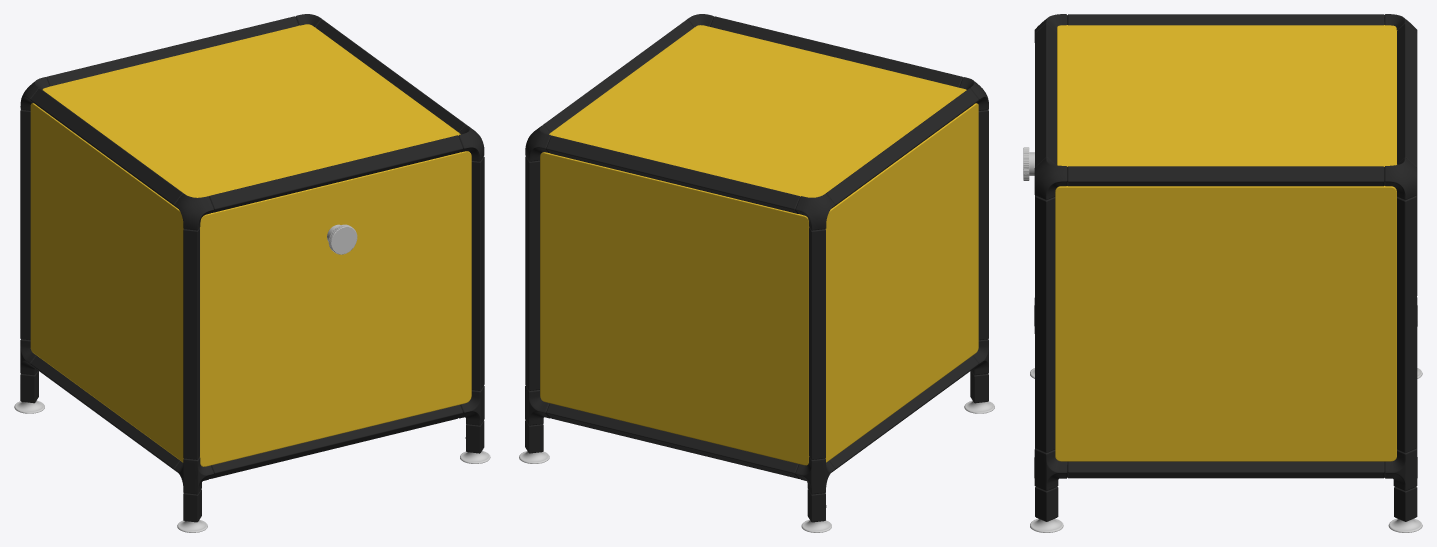
3 renders of one model, left to right at view 1: azimuth 30°, elevation 25°; view 2: azimuth 150°, elevation 25°; view 3: azimuth 270°, elevation 25°, orthographic. The views are drawn at different scales.
Visible parts, largest first — view 1: 374x374x329; view 2: 374x374x329; view 3: 374x374x329.
Boxes of the visible parts, x1,y1,x2,y2 form: 374x374x329: (14,14,490,532); 374x374x329: (519,14,994,532); 374x374x329: (1023,14,1422,532).
Size of the model in its own units: 0.464 by 0.4683 by 0.4707.
